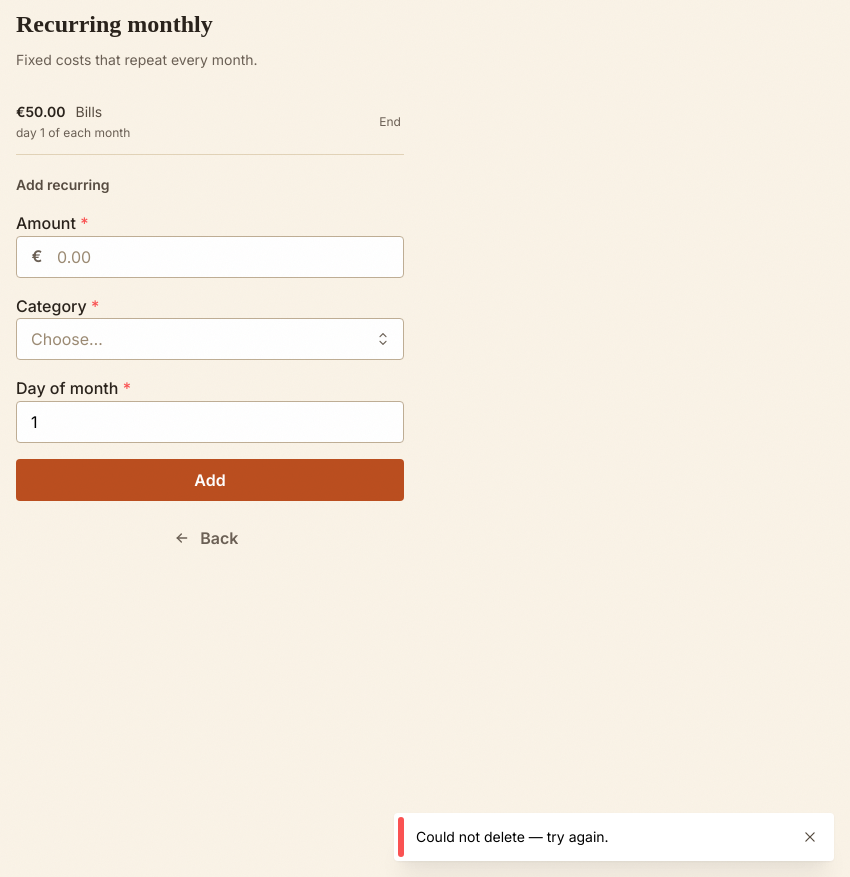
Test: Mutation failures are visible (BR-ERR-4, TICKET-025) › shows a toast when ending a recurring item fails
The image size is (850, 877).
Click the button "End": (390, 122) left=376, top=108, right=404, bottom=136
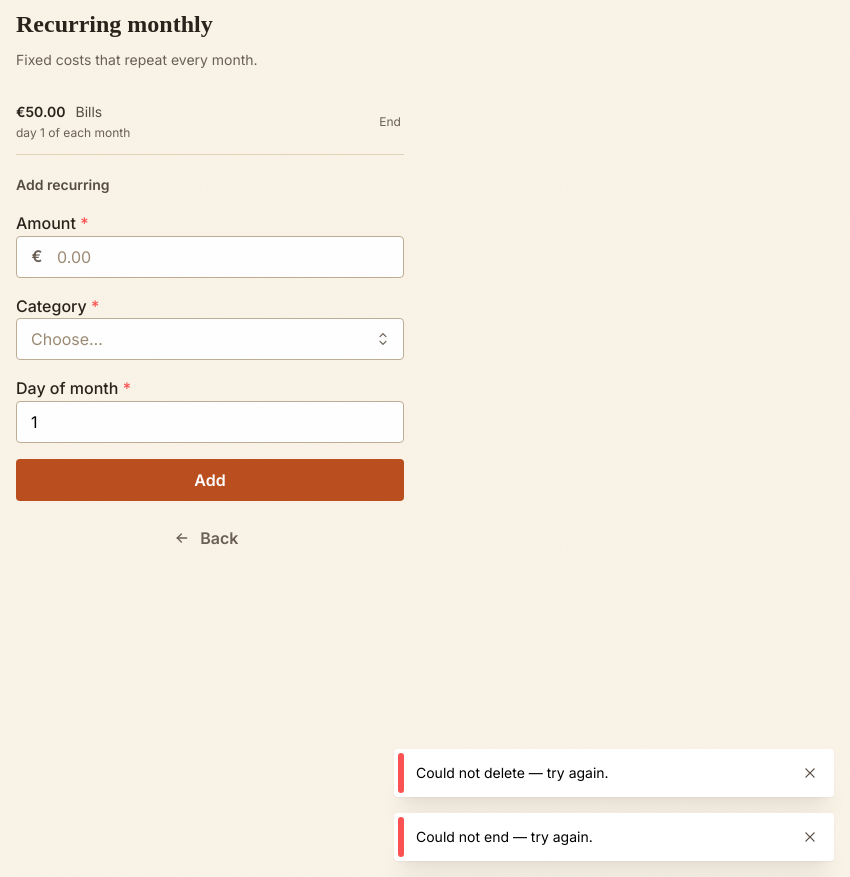
Result: the text "Could not end — try again." is shown at left=416, top=828, right=593, bottom=845
